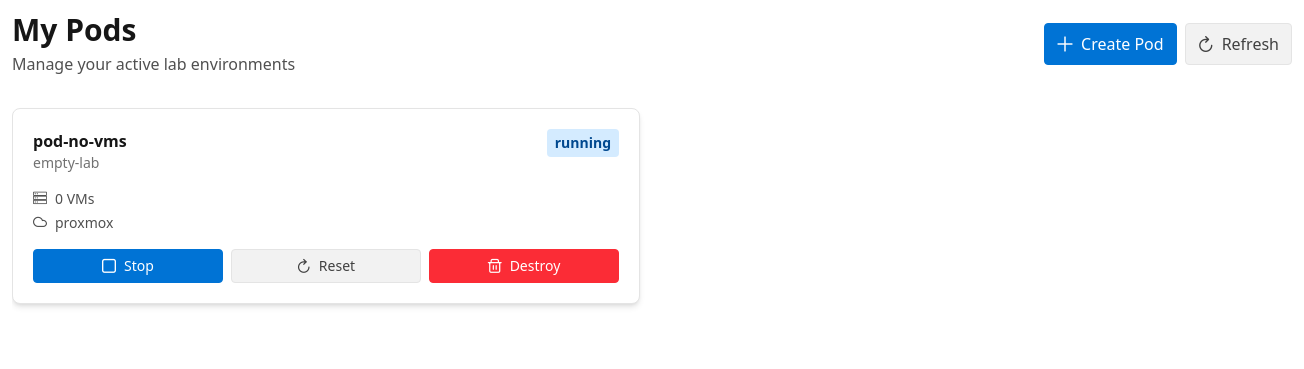
it: PodsView › pod actions › should show error when resetting pod with no VMs
The width and height of the screenshot is (1304, 369).
Click the button "Reset" at [326, 266], box [231, 249, 421, 283]
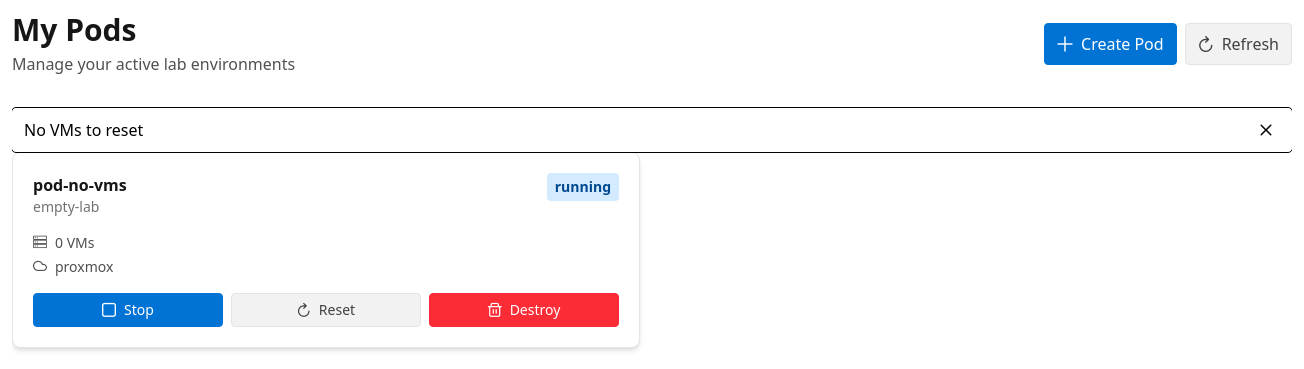
Check: the text "No VMs to reset" is shown, box [24, 118, 143, 142]
